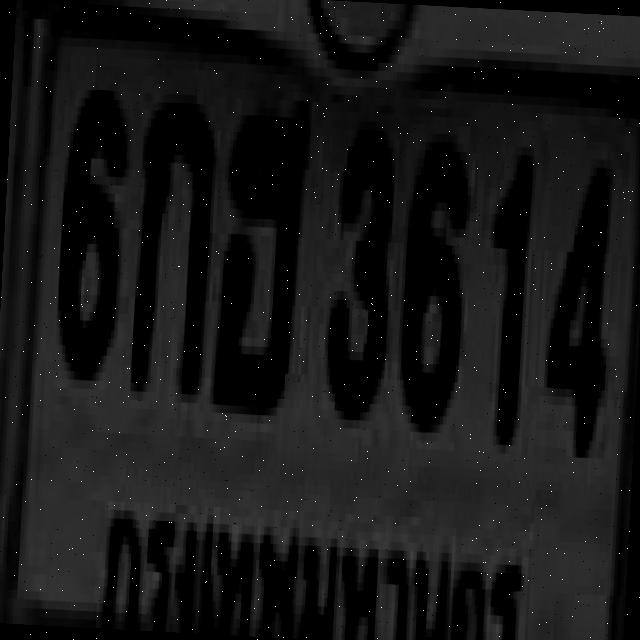1: (481, 146, 531, 437)
10GorGai: (128, 93, 214, 386)
3: (322, 120, 394, 413)
4: (540, 158, 610, 450)
53HorNokHook: (210, 89, 309, 408)
6: (51, 80, 128, 374), (395, 132, 468, 426)
Bangkok: (97, 491, 535, 640)
